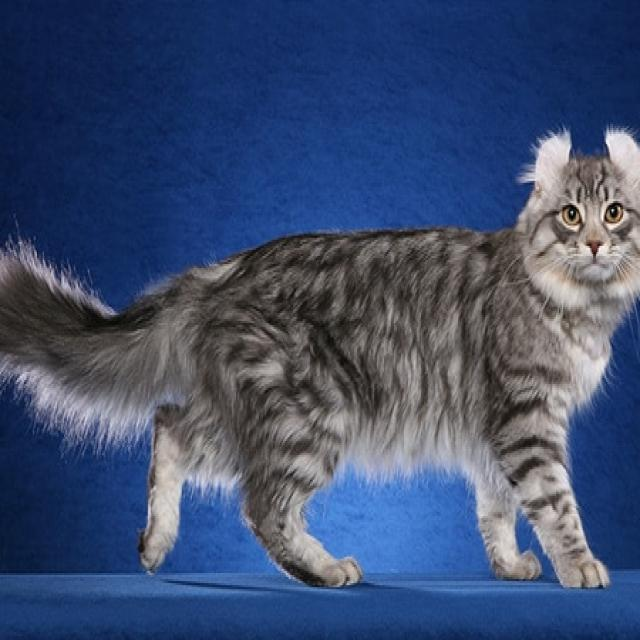American Curl: (0, 120, 640, 595)
